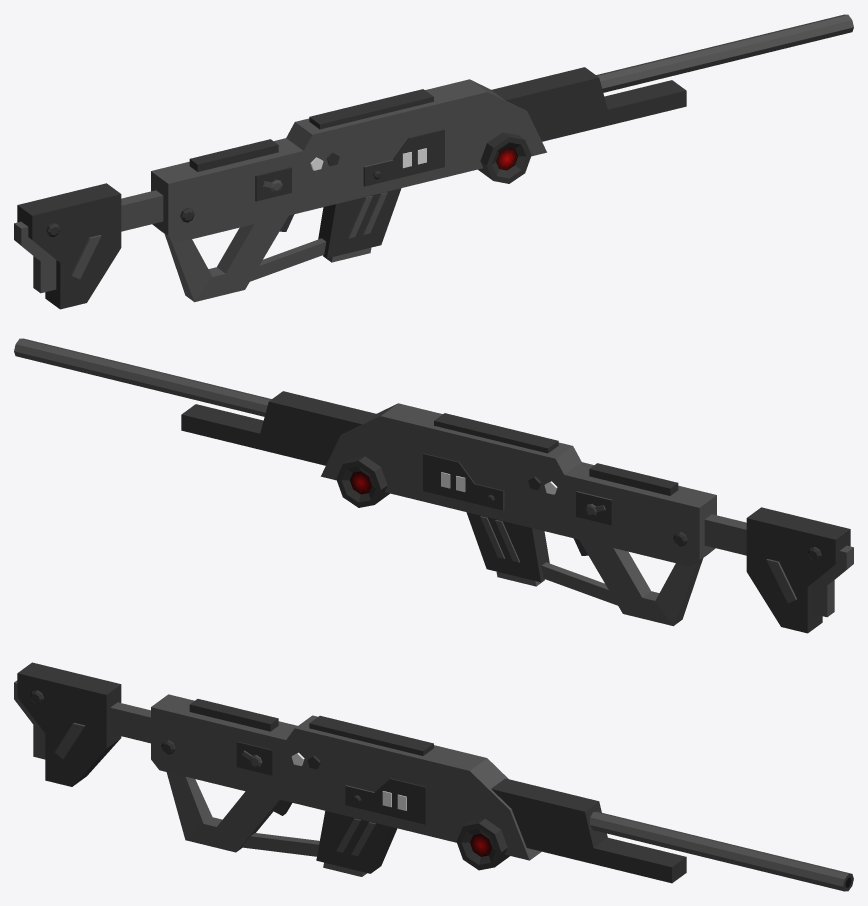
The model's file is Rifle_Sniper_B_V1.FBX.
3 renders of one model, top to bottom at view 1: azimuth 30°, elevation 25°; view 2: azimuth 150°, elevation 25°; view 3: azimuth 330°, elevation 25°, orthographic.
Visible parts, largest first — view 1: Rifle_Sniper_B_V1; view 2: Rifle_Sniper_B_V1; view 3: Rifle_Sniper_B_V1.
Part boxes in pixels (x1,y1,x2,y2): Rifle_Sniper_B_V1: (14,14,853,309); Rifle_Sniper_B_V1: (14,338,853,633); Rifle_Sniper_B_V1: (14,662,853,891).
Size of the model in its own units: 522 by 88.73 by 33.03.
